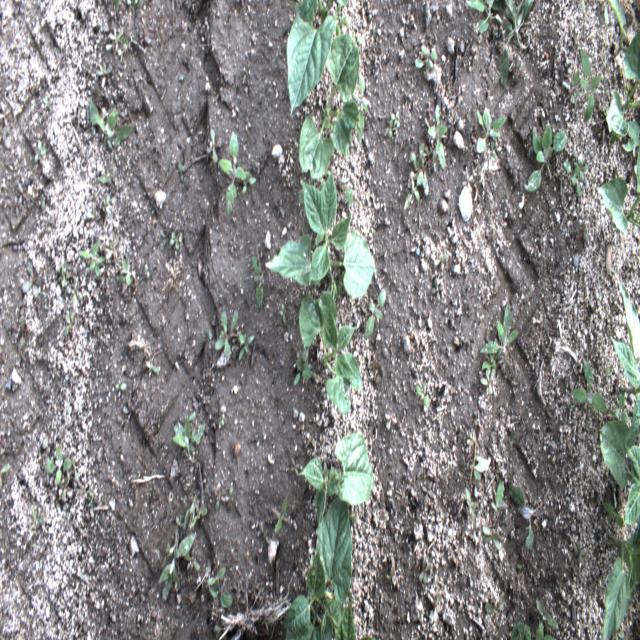crop: (281, 480, 377, 640), (265, 164, 376, 300), (299, 34, 359, 180), (298, 292, 362, 414), (296, 434, 373, 534), (287, 0, 349, 122), (601, 514, 640, 640), (610, 280, 640, 442), (600, 420, 640, 528), (596, 139, 640, 233), (606, 30, 640, 151)
weed: (484, 0, 534, 88), (158, 512, 197, 602), (522, 122, 566, 191), (479, 303, 519, 369), (508, 482, 546, 549), (218, 131, 247, 217), (215, 310, 255, 361), (572, 356, 607, 413), (89, 100, 138, 140), (172, 411, 205, 462), (580, 49, 603, 122), (476, 107, 506, 152), (427, 105, 447, 168), (465, 0, 503, 33), (563, 151, 588, 199), (45, 444, 72, 488), (364, 287, 386, 338), (510, 616, 556, 639), (207, 566, 232, 607), (355, 70, 368, 147), (78, 241, 105, 277), (602, 491, 625, 527), (251, 256, 266, 310), (403, 170, 423, 210), (294, 343, 312, 387), (414, 44, 438, 77), (491, 480, 508, 521), (536, 600, 559, 630), (614, 387, 630, 422), (118, 258, 131, 289), (481, 368, 495, 393)
